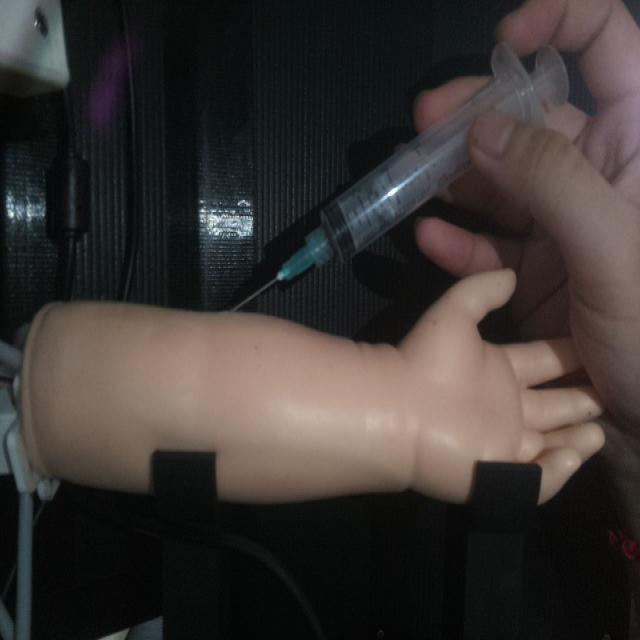Outside: (219, 32, 572, 315)
